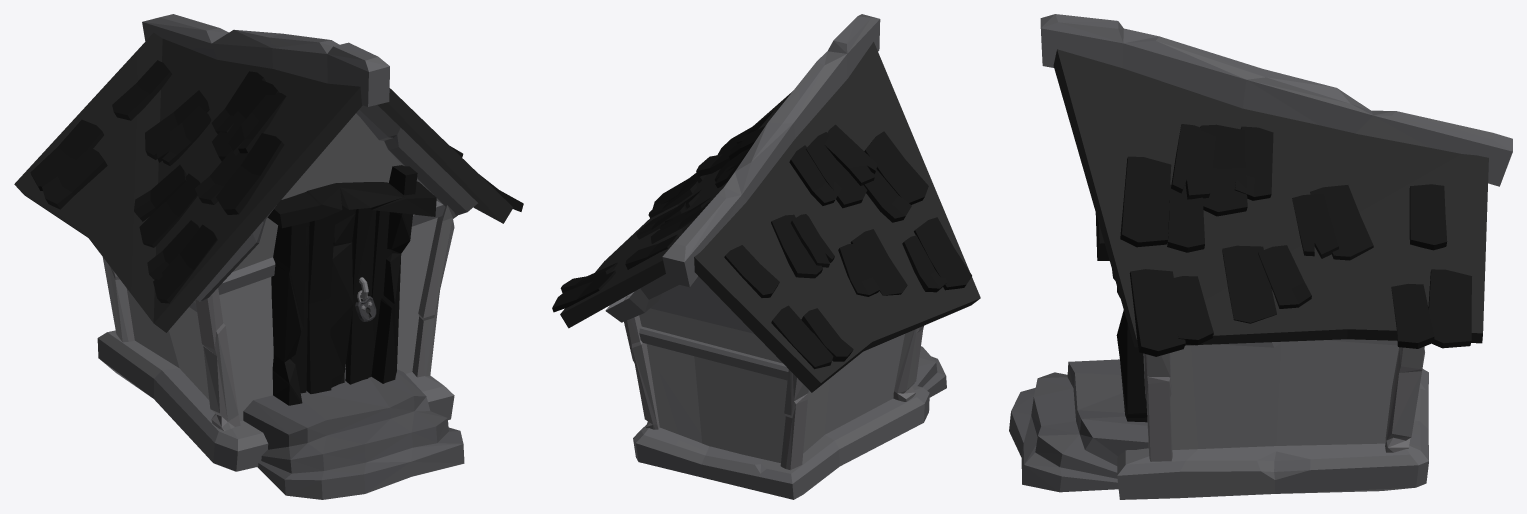
The model's file is WF_LP_HT_Build_HouseRoomDoor.fbx.
The picture shows the model from 3 angles, left to right: view 1: azimuth 30°, elevation 25°; view 2: azimuth 150°, elevation 25°; view 3: azimuth 270°, elevation 25°; orthographic projection. The views are drawn at different scales.
Parts seen in each view (by area): view 1: WF_LP_HT_Build_HouseRoomDoor; view 2: WF_LP_HT_Build_HouseRoomDoor; view 3: WF_LP_HT_Build_HouseRoomDoor.
Boxes of the visible parts, <box> form: WF_LP_HT_Build_HouseRoomDoor: <box>14,14,523,499</box>; WF_LP_HT_Build_HouseRoomDoor: <box>552,14,980,499</box>; WF_LP_HT_Build_HouseRoomDoor: <box>1009,14,1512,499</box>.
Size of the model in its own units: 3.79 by 4.02 by 4.29.
